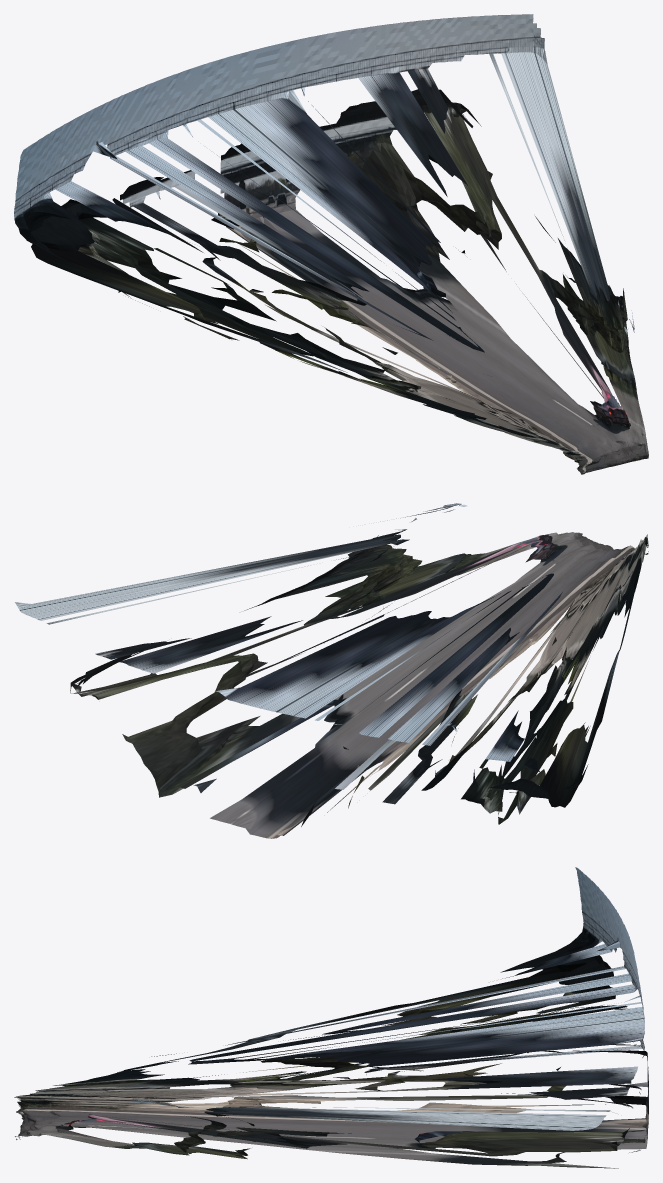
The picture shows the model from 3 angles, top to bottom: view 1: azimuth 30°, elevation 25°; view 2: azimuth 150°, elevation 25°; view 3: azimuth 270°, elevation 25°; orthographic projection. The views are drawn at different scales.
Parts seen in each view (by area): view 1: defaultobject; view 2: defaultobject; view 3: defaultobject.
Boxes of the visible parts, x1,y1,x2,y2 form: defaultobject: (14,14,648,474); defaultobject: (15,503,648,838); defaultobject: (14,867,648,1168).
Size of the model in its own units: 38.67 by 12.47 by 44.58.
Materials: 1 (1 with a texture image).
